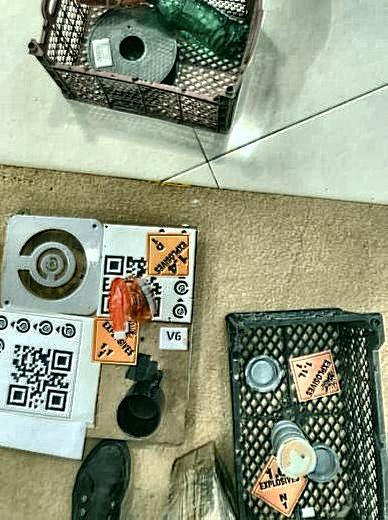explosive: (252, 455, 311, 519), (290, 350, 341, 402), (92, 318, 139, 365), (147, 235, 191, 279)
